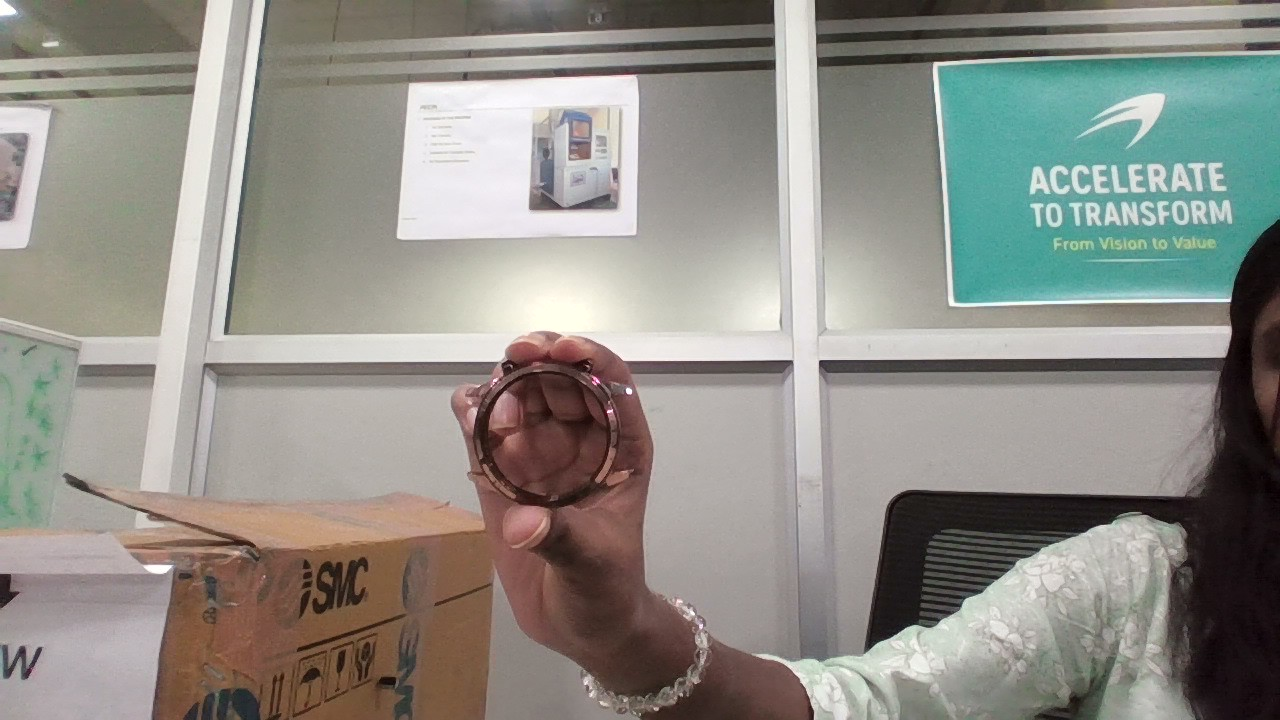case2: (464, 360, 634, 510)
